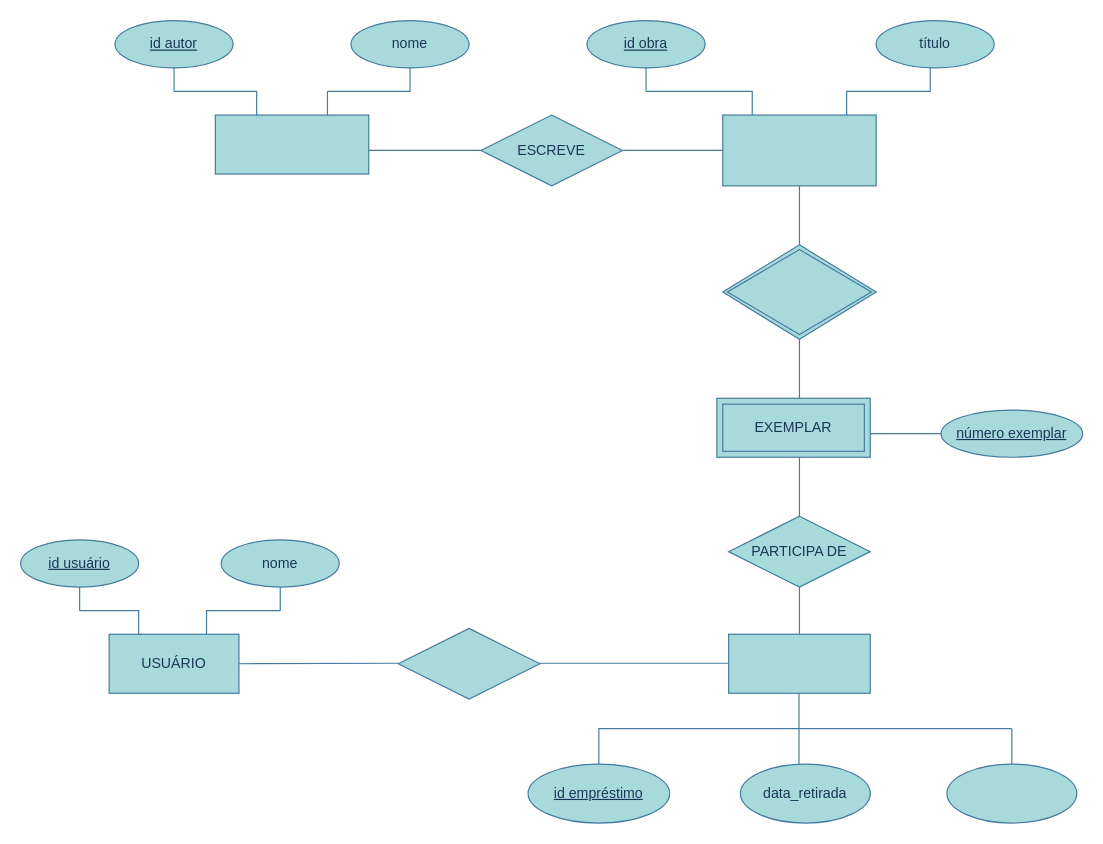
Some shapes in this 1103 by 844 pixel diagram are drawn without their labels. Each missing label, with the box of its shape:
AUTOR: (214, 114, 369, 174)
data_devolução: (946, 763, 1077, 823)
EMPRÉSTIMO: (727, 633, 870, 693)
OBRA: (722, 114, 876, 186)
REALIZA: (397, 627, 540, 699)
TEM: (722, 244, 876, 339)
